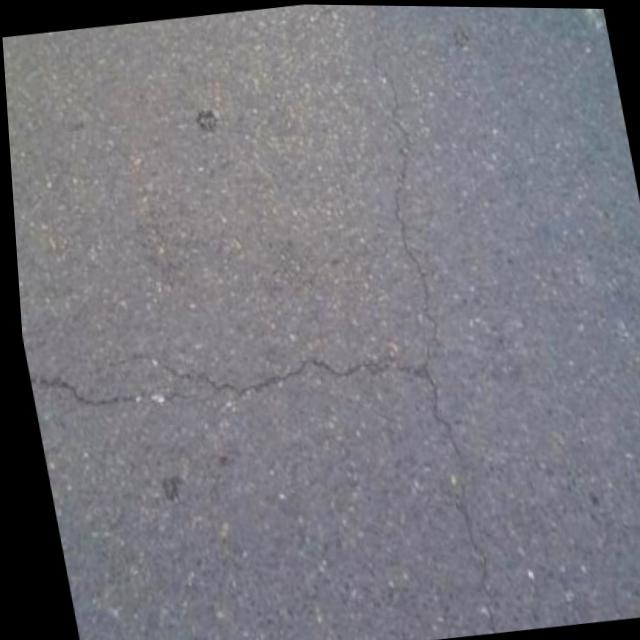Crack: (19, 312, 433, 430)
